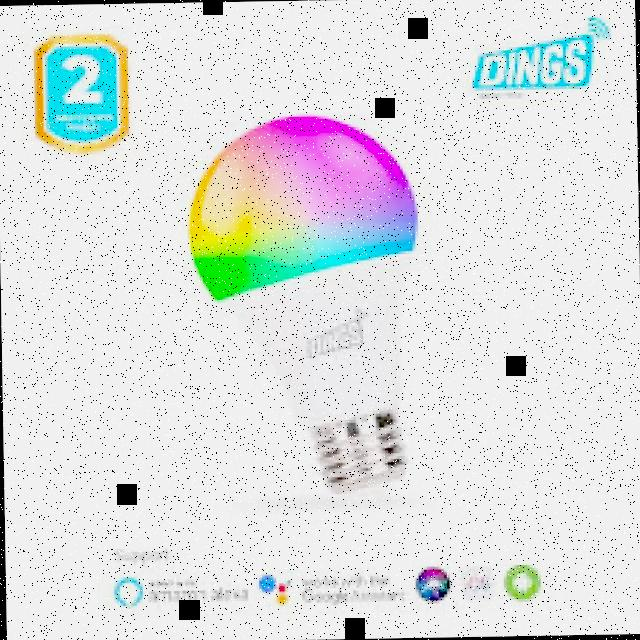light_bulb: (172, 99, 452, 502)
